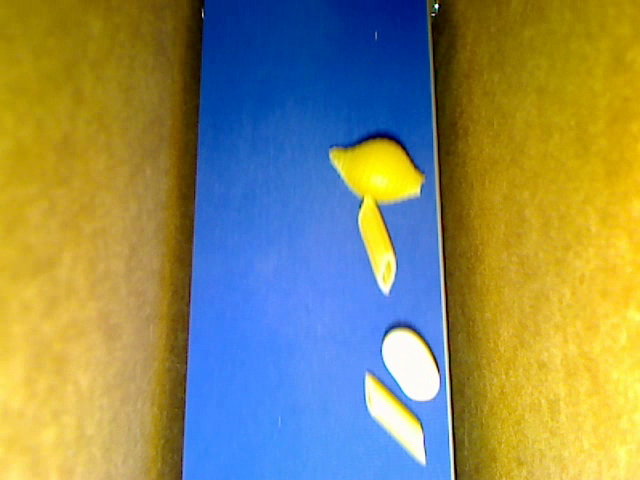penne: (364, 371, 427, 465), (357, 193, 397, 294)
shell: (328, 137, 425, 206)
